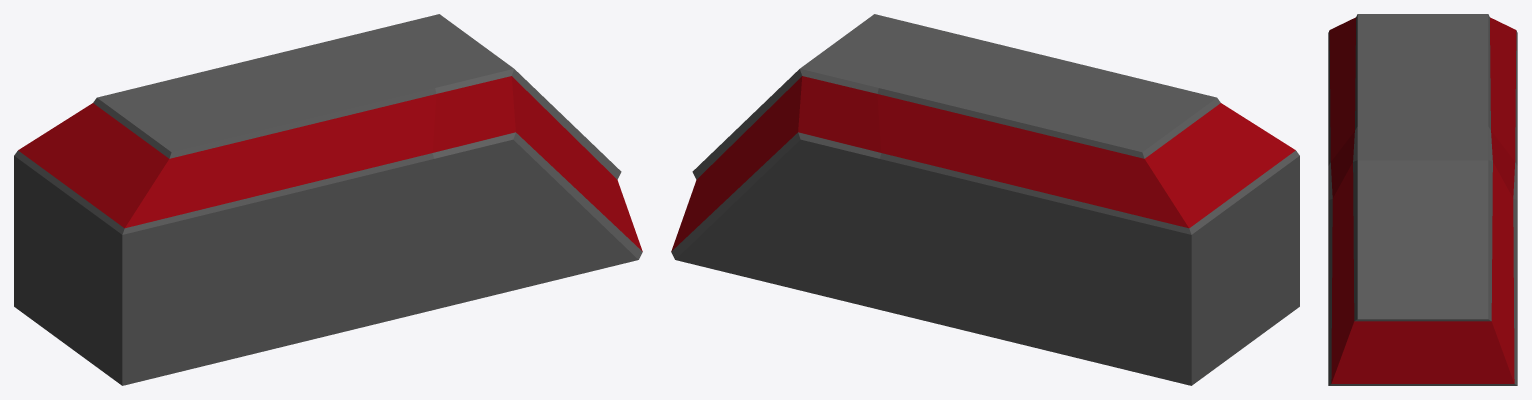
Rendered from Кластер гранаты.fbx.
The picture shows the model from 3 angles, left to right: view 1: azimuth 30°, elevation 25°; view 2: azimuth 150°, elevation 25°; view 3: azimuth 270°, elevation 25°; orthographic projection. The views are drawn at different scales.
Visible parts, largest first — view 1: Cube; view 2: Cube; view 3: Cube.
Part boxes in pixels (x1,y1,x2,y2): Cube: (14, 14, 642, 385); Cube: (671, 14, 1299, 385); Cube: (1328, 14, 1517, 385).
Size of the model in its own units: 290 by 109 by 104.
